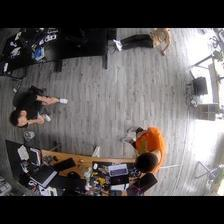fall: (112, 28, 174, 57)
normal: (9, 81, 67, 130), (120, 121, 166, 174)
